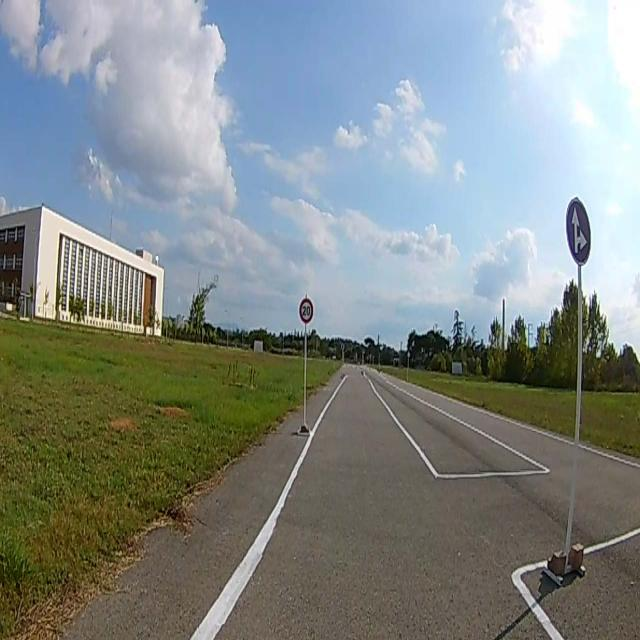20: (300, 298, 313, 322)
ilerisag: (566, 198, 590, 262)
